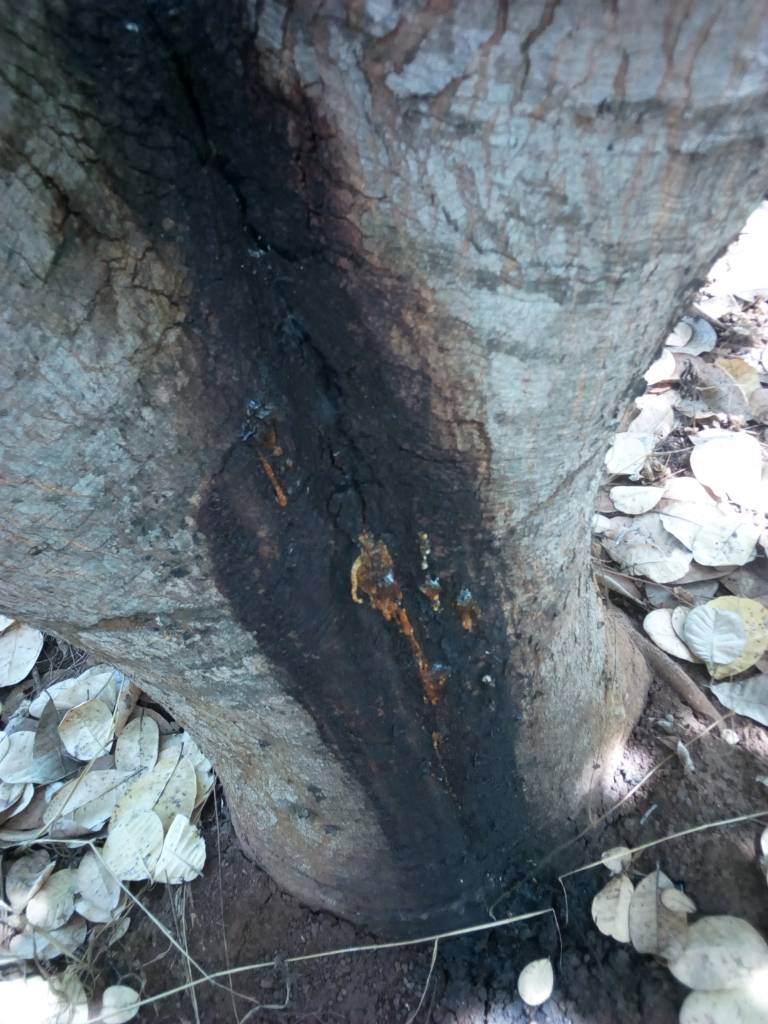Gommose: (274, 341, 535, 914), (94, 2, 346, 341)
